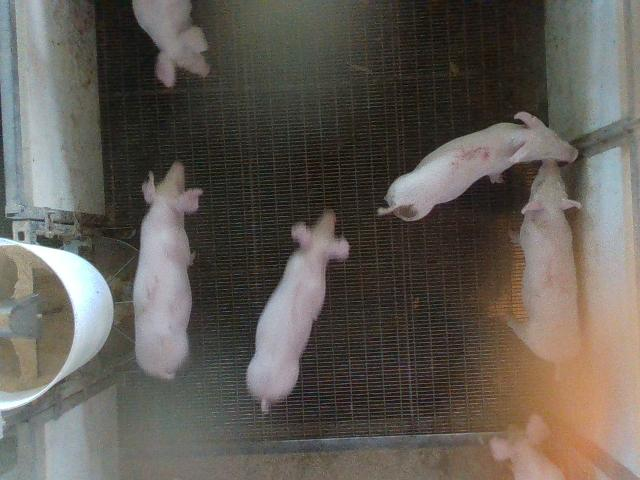pig-4: (508, 159, 581, 363)
pig-5: (378, 111, 578, 221)
